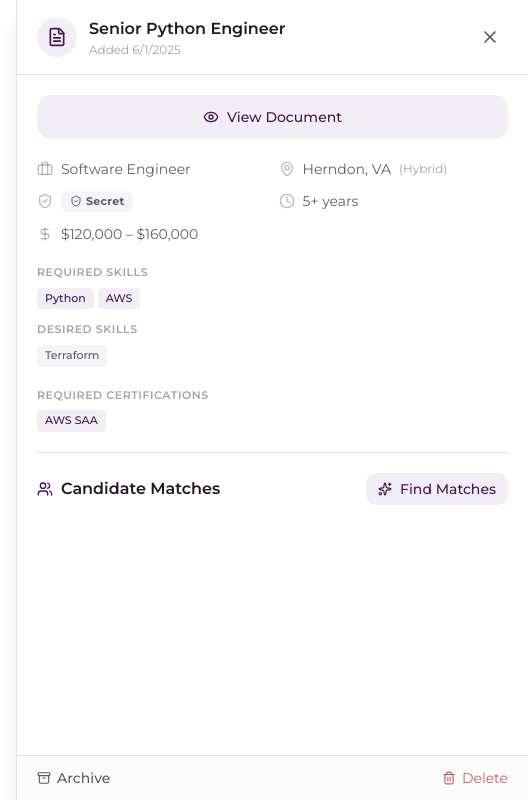
JdDetailPanel › shows delete confirmation on delete click
The image size is (528, 800).
# The delete button in the footer shows "Delete" text
Step 1. Click the button "Delete" → (475, 778), box [442, 768, 508, 788]
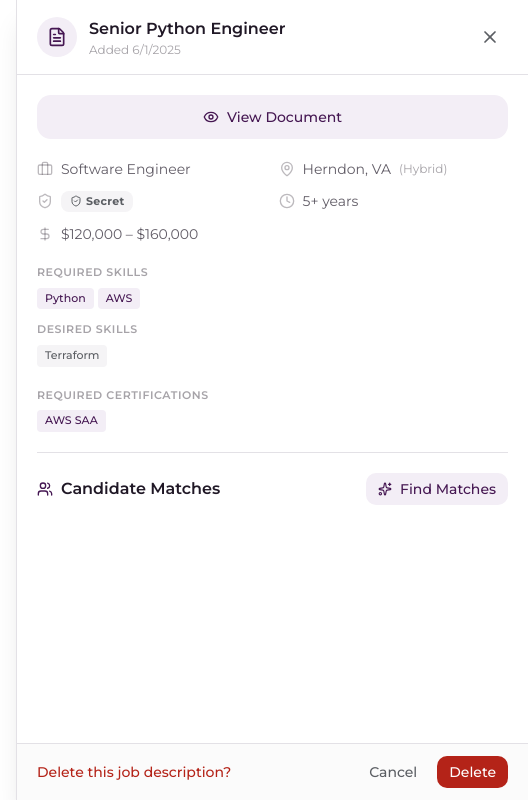
Now the text "Delete this job description?" is shown, box [37, 762, 231, 782]
